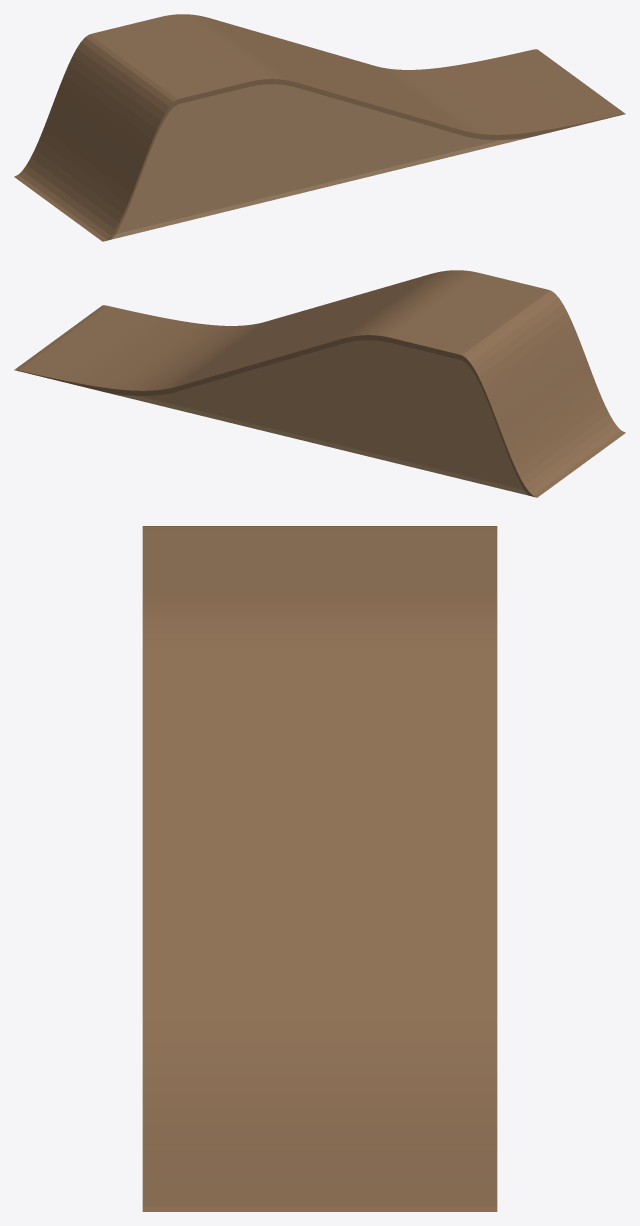
File: DR_Prop_WhipLanding.fbx
3 renders of one model, top to bottom at view 1: azimuth 30°, elevation 25°; view 2: azimuth 150°, elevation 25°; view 3: azimuth 270°, elevation 25°, orthographic. The views are drawn at different scales.
Visible parts, largest first — view 1: DR_Prop_WhipLanding; view 2: DR_Prop_WhipLanding; view 3: DR_Prop_WhipLanding.
Part boxes in pixels (x1,y1,x2,y2): DR_Prop_WhipLanding: [14, 14, 625, 241]; DR_Prop_WhipLanding: [14, 270, 625, 497]; DR_Prop_WhipLanding: [142, 526, 497, 1211].
Bounding box in the file's own units: 3.75 × 0.85 × 1.1.
